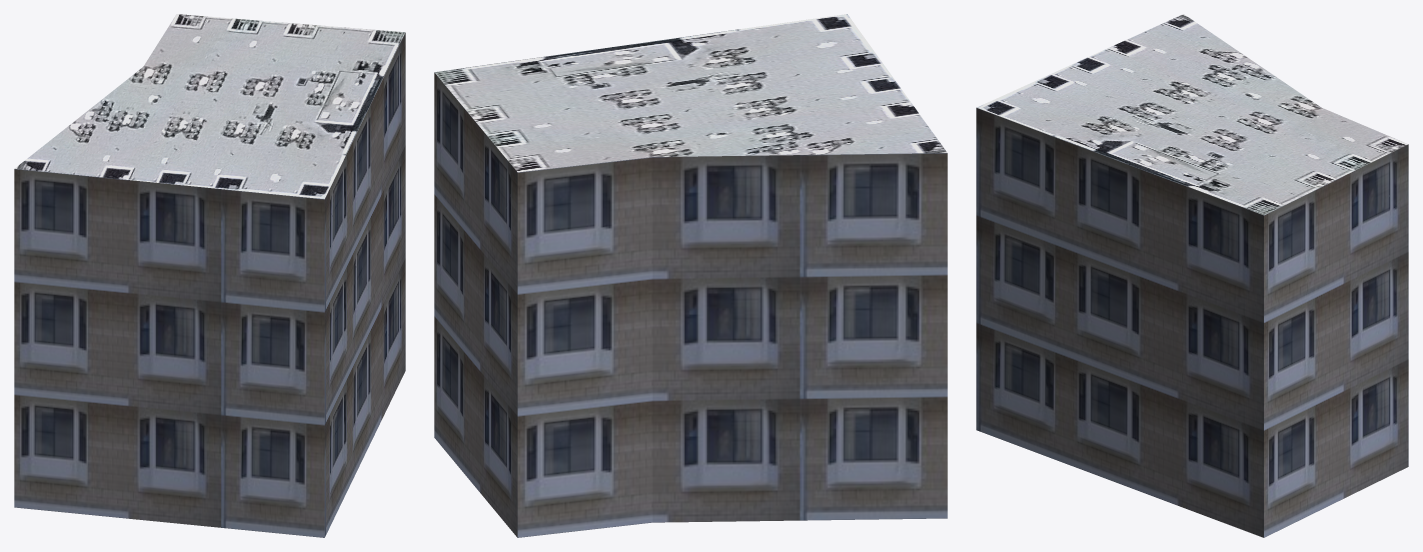
Rendered from ResTex__2790.fbx.
The picture shows the model from 3 angles, left to right: view 1: azimuth 30°, elevation 25°; view 2: azimuth 150°, elevation 25°; view 3: azimuth 270°, elevation 25°; orthographic projection. The views are drawn at different scales.
Visible parts, largest first — view 1: CityEngineMaterial_3_m, CityEngineMaterial_m; view 2: CityEngineMaterial_3_m, CityEngineMaterial_m; view 3: CityEngineMaterial_3_m, CityEngineMaterial_m.
Part boxes in pixels (bbox=[...]): CityEngineMaterial_3_m: bbox=[14, 32, 405, 537]; CityEngineMaterial_m: bbox=[14, 14, 405, 199]; CityEngineMaterial_3_m: bbox=[434, 72, 947, 537]; CityEngineMaterial_m: bbox=[434, 14, 947, 172]; CityEngineMaterial_3_m: bbox=[976, 107, 1408, 537]; CityEngineMaterial_m: bbox=[977, 14, 1407, 215].
Bounding box in the file's own units: 12.05 × 9 × 10.93.
2 materials, 2 textured.
